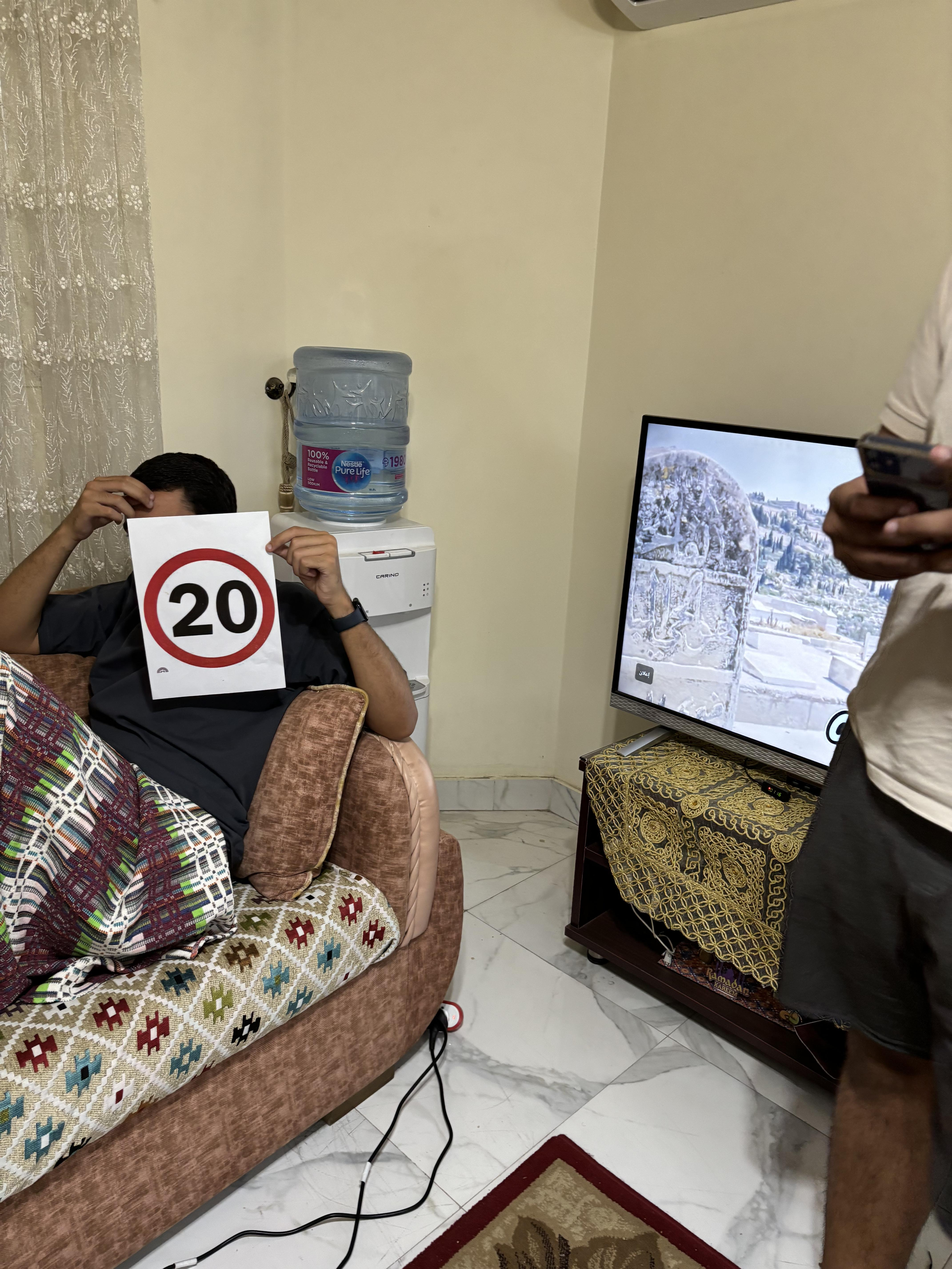20-Speed: (143, 549, 283, 666)
